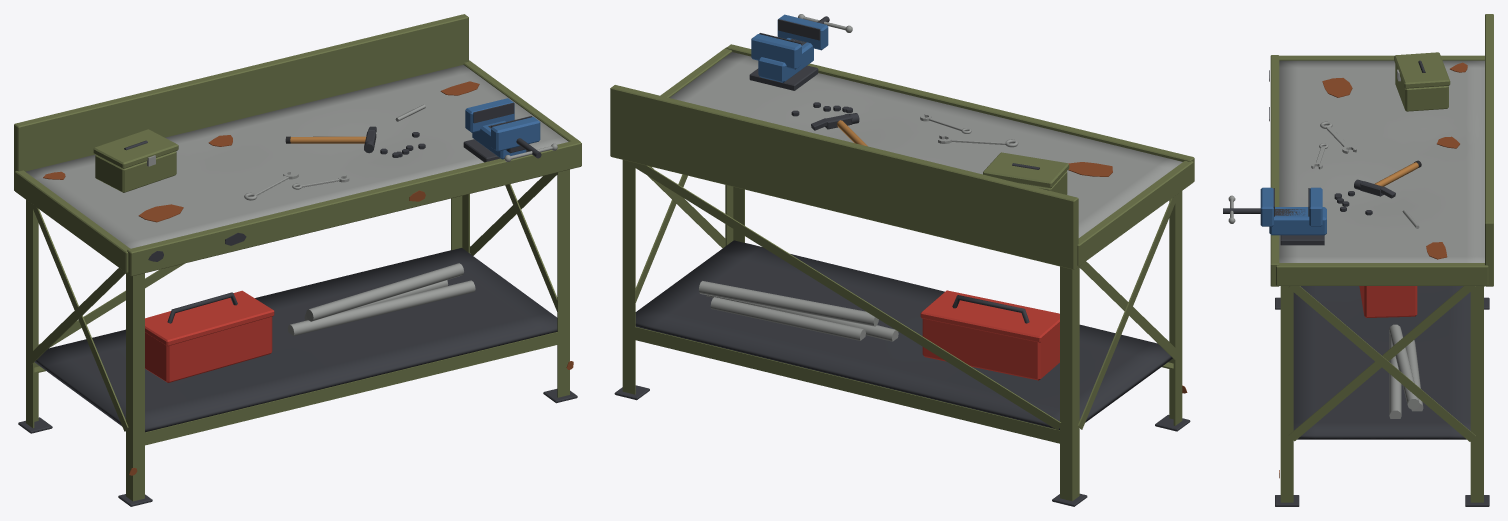
File: deco_worktable_metal.fbx
The picture shows the model from 3 angles, left to right: view 1: azimuth 30°, elevation 25°; view 2: azimuth 150°, elevation 25°; view 3: azimuth 270°, elevation 25°; orthographic projection. The views are drawn at different scales.
Visible parts, largest first — view 1: Worktable_Metal_Top, Worktable_Metal_Shelf, Worktable_Metal_Frame, Worktable_Metal_Tools, Worktable_Metal_Vice, Worktable_Metal_Wear; view 2: Worktable_Metal_Top, Worktable_Metal_Shelf, Worktable_Metal_Frame, Worktable_Metal_Vice, Worktable_Metal_Tools; view 3: Worktable_Metal_Top, Worktable_Metal_Shelf, Worktable_Metal_Frame, Worktable_Metal_Tools, Worktable_Metal_Vice, Worktable_Metal_Wear.
Boxes of the visible parts, x1,y1,x2,y2 form: Worktable_Metal_Top: (14,14,581,276); Worktable_Metal_Shelf: (34,248,557,432); Worktable_Metal_Frame: (18,169,577,506); Worktable_Metal_Tools: (93,104,425,200); Worktable_Metal_Vice: (463,98,557,162); Worktable_Metal_Wear: (43,81,573,475); Worktable_Metal_Top: (610,44,1194,269); Worktable_Metal_Shelf: (635,240,1172,430); Worktable_Metal_Frame: (614,160,1190,506); Worktable_Metal_Vice: (749,14,852,90); Worktable_Metal_Tools: (791,102,1069,194); Worktable_Metal_Top: (1270,14,1493,286); Worktable_Metal_Shelf: (1293,286,1470,439); Worktable_Metal_Frame: (1275,286,1489,506); Worktable_Metal_Tools: (1311,52,1450,228); Worktable_Metal_Vice: (1223,187,1326,245); Worktable_Metal_Wear: (1269,62,1467,478).
Size of the model in its own units: 226 by 142 by 123.
